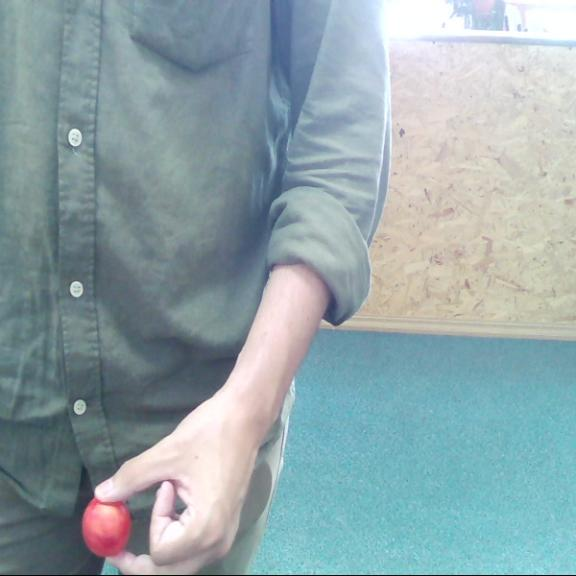ball: (80, 499, 133, 557)
